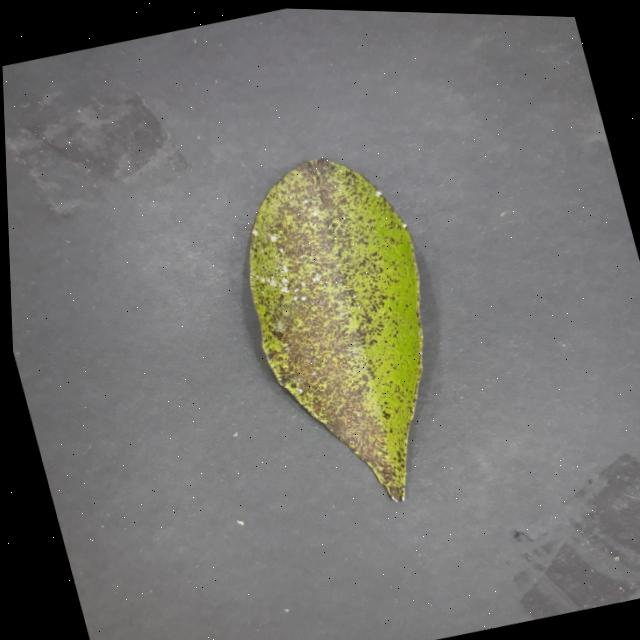greasy_spot: (249, 159, 421, 501)
